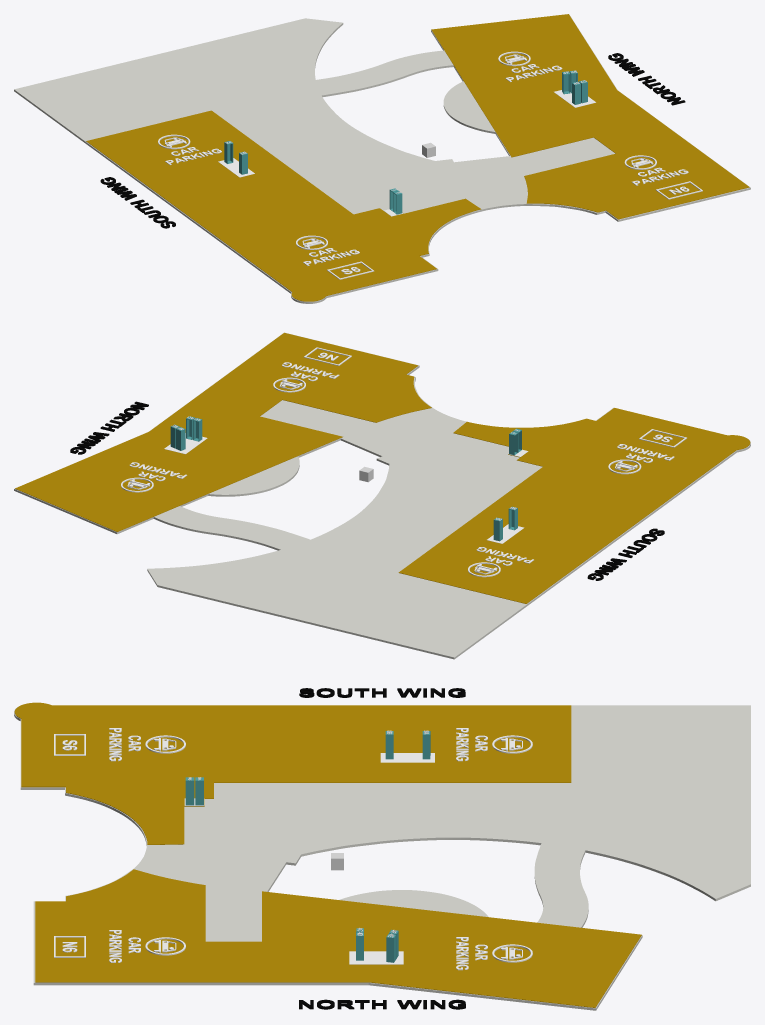
Rendered from floor-6.glb.
3 views of the same model, one above another, from view 1: azimuth 30°, elevation 25°; view 2: azimuth 150°, elevation 25°; view 3: azimuth 270°, elevation 25° (orthographic). The views are drawn at different scales.
Parts seen in each view (by area): view 1: sixth floor; view 2: sixth floor; view 3: sixth floor.
Part boxes in pixels (left/top/right/bottom): sixth floor: left=14, top=14, right=750, bottom=303; sixth floor: left=14, top=332, right=750, bottom=659; sixth floor: left=14, top=688, right=750, bottom=1010.
Bounding box in the file's own units: 117 × 5.79 × 113.
